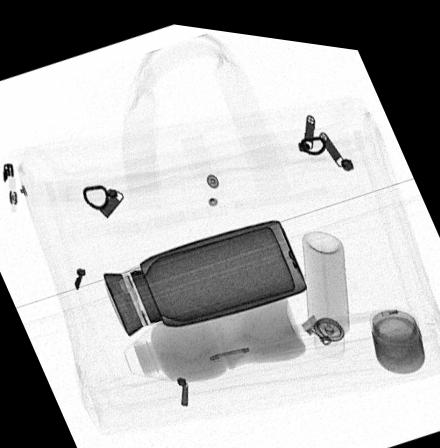Sprayer: (300, 220, 349, 348)
